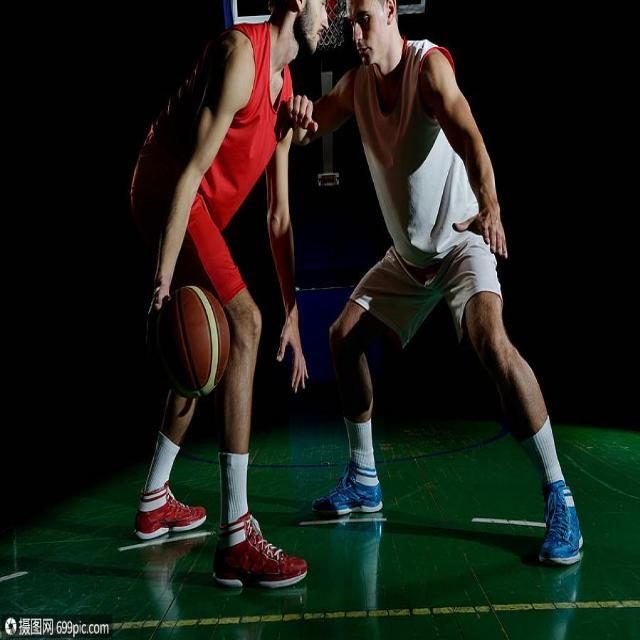rim: (147, 288, 230, 395)
